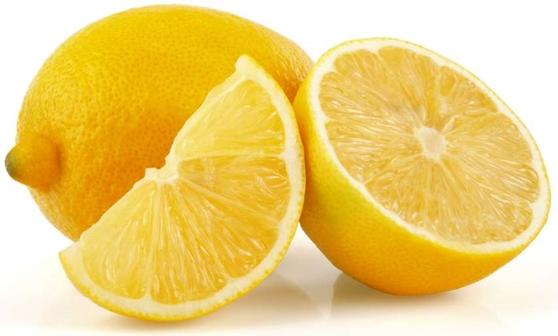lemon: (11, 7, 318, 232)
